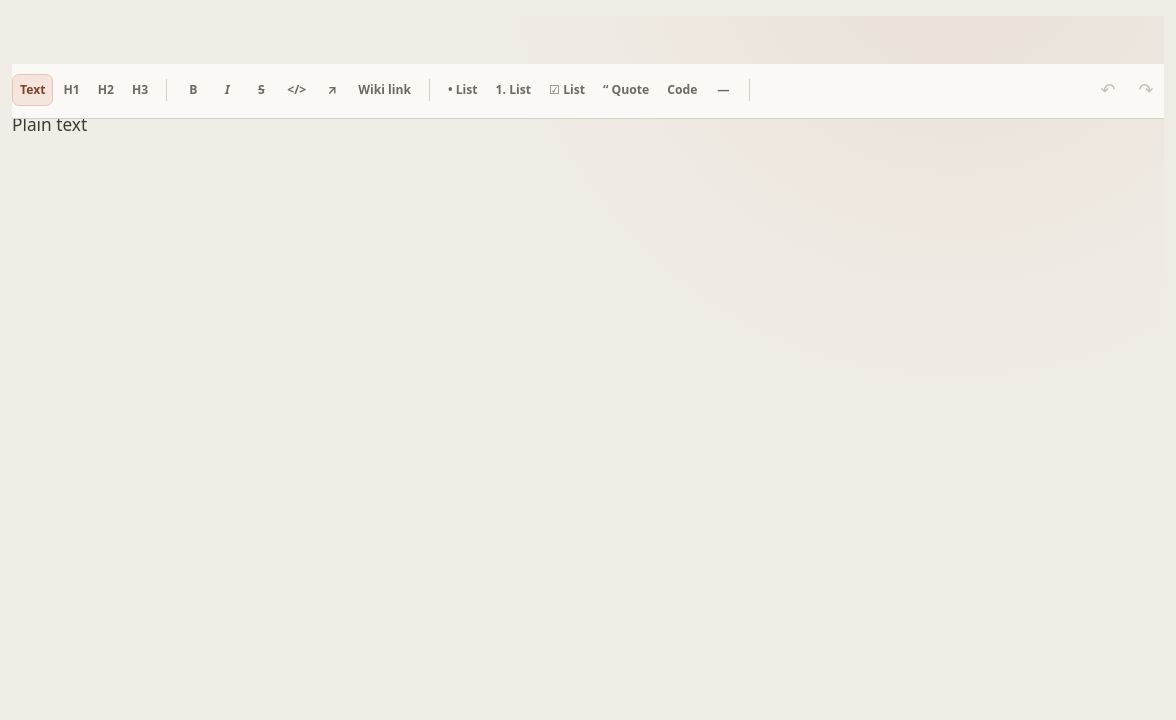
PageEditor › only shows the code language selector for the active code block
The image size is (1176, 720).
Expected: the field named "Page content" is shown, [12,113,87,136]
Expected: the dropdown labelled "Code language" is not shown
Click the button with aria-label "Code block" at {"x": 682, "y": 90}, box [659,74,706,106]
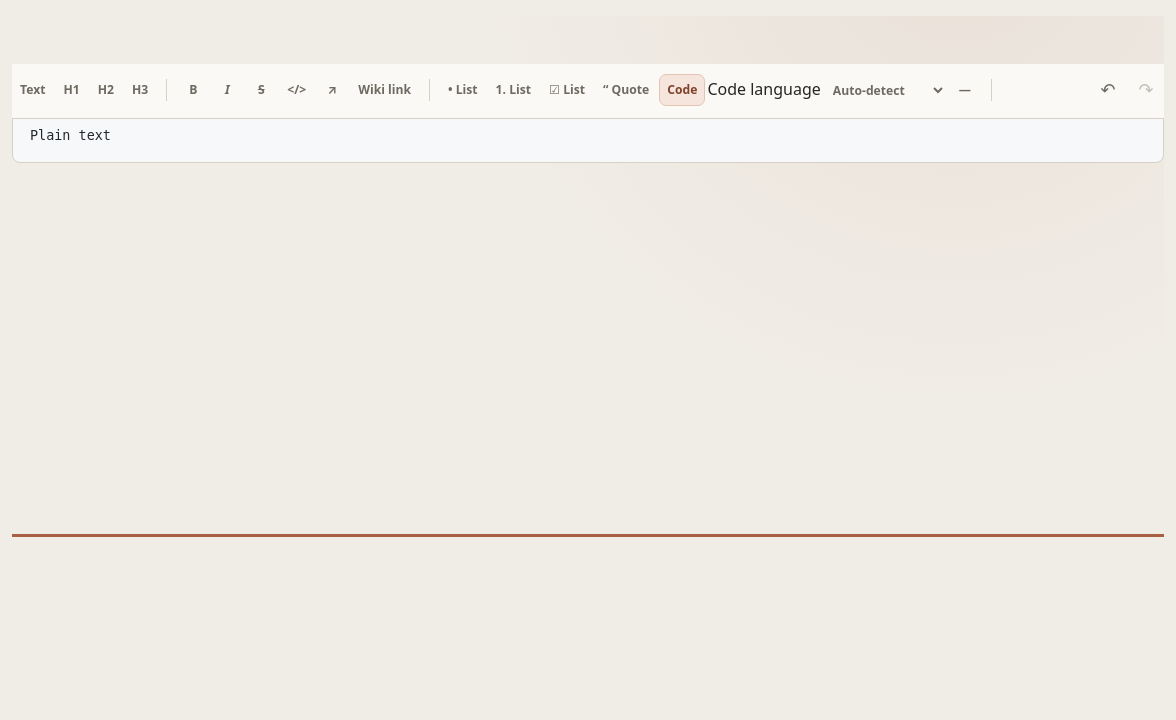
Result: the dropdown labelled "Code language" is shown at [821,75,947,105]
Click the button with aria-label "Code block" at {"x": 682, "y": 90}, box [659,74,706,106]
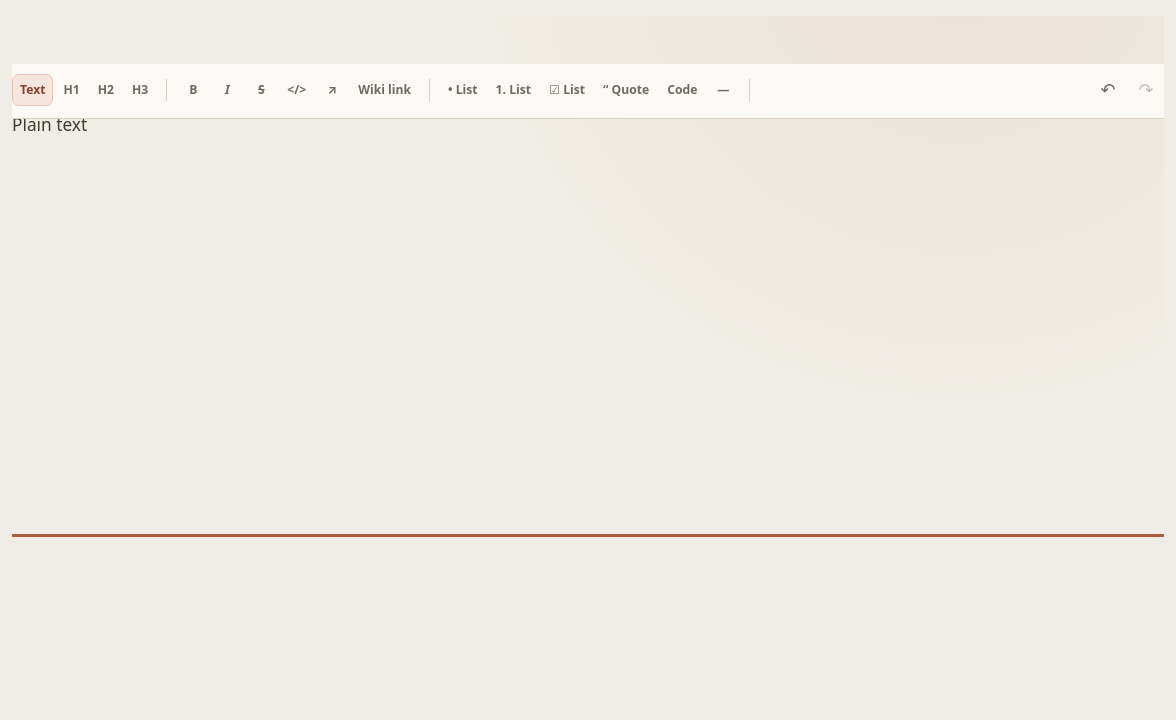
Result: the text "Code language" is gone
